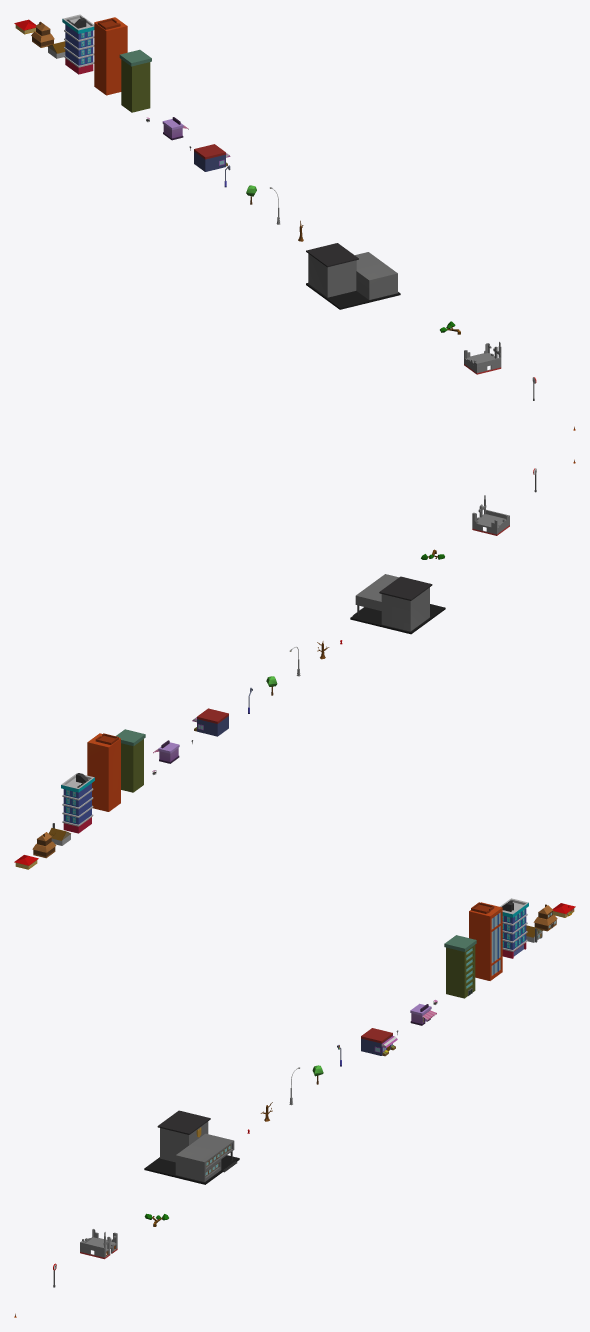
File: City.fbx
3 renders of one model, top to bottom at view 1: azimuth 30°, elevation 25°; view 2: azimuth 150°, elevation 25°; view 3: azimuth 330°, elevation 25°, orthographic.
Visible parts, largest first — view 1: police_station, building_2, building_3, building_1, destroyed_building, grocery_store; view 2: police_station, building_2, building_1, building_3, destroyed_building, grocery_store; view 3: police_station, building_2, building_3, building_1, grocery_store, destroyed_building.
Boxes of the visible parts, x1,y1,x2,y2 form: police_station: (306, 243, 400, 309); building_2: (94, 17, 127, 95); building_3: (119, 49, 151, 112); building_1: (62, 14, 94, 74); destroyed_building: (464, 341, 501, 374); grocery_store: (194, 144, 230, 171); police_station: (350, 574, 445, 634); building_2: (87, 733, 120, 811); building_1: (61, 773, 94, 833); building_3: (116, 729, 145, 792); destroyed_building: (472, 495, 509, 535); grocery_store: (192, 708, 228, 736); police_station: (144, 1110, 239, 1184); building_2: (469, 902, 502, 980); building_3: (444, 935, 476, 998); building_1: (500, 898, 528, 958); grocery_store: (361, 1028, 397, 1056); destroyed_building: (80, 1229, 117, 1259).
Bounding box in the file's own units: 6476 × 5995 × 89261.
